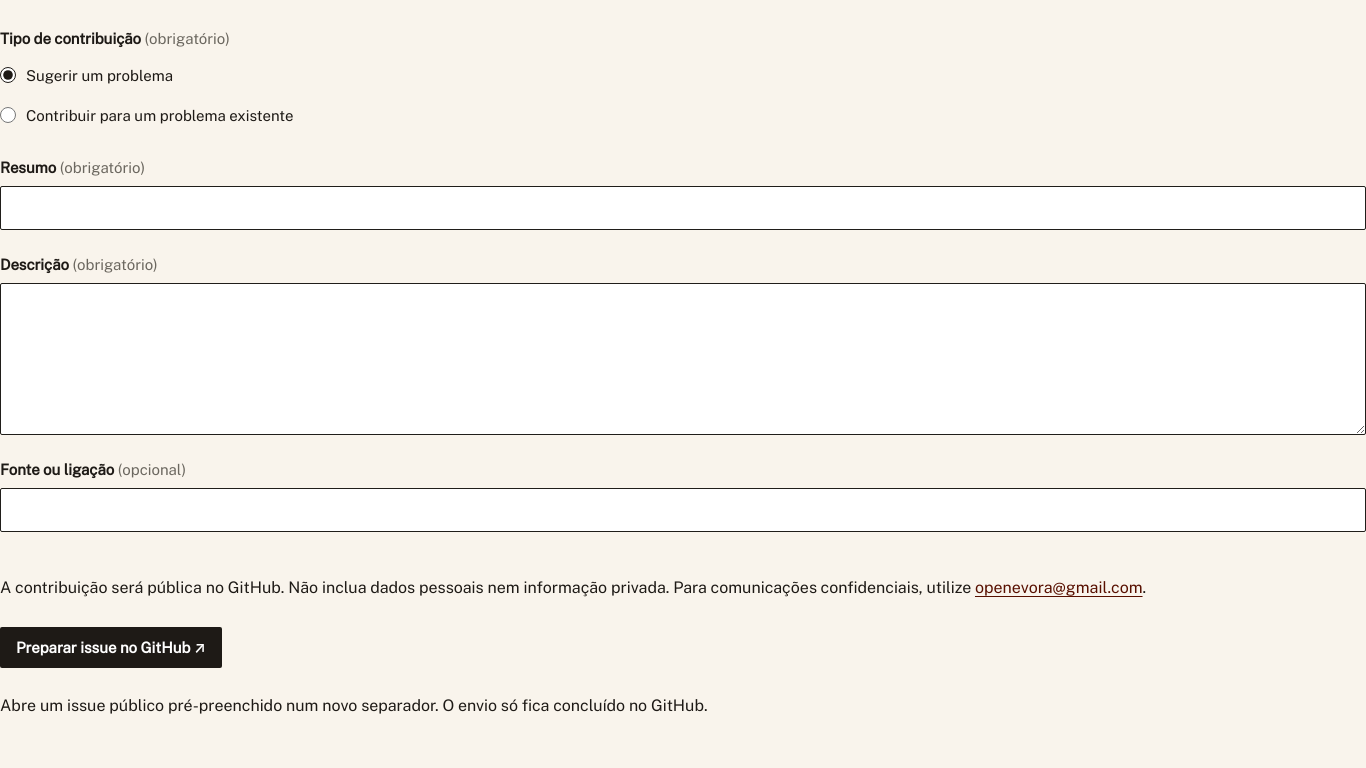
Test: ContributionForm — GitHub handoff › copies only after explicit actions and leaves prepared values visible when copying fails
Step 1. Type "Resumo" into the field labelled "Resumo (obrigatório)" → (683, 208), box [0,186,1365,230]
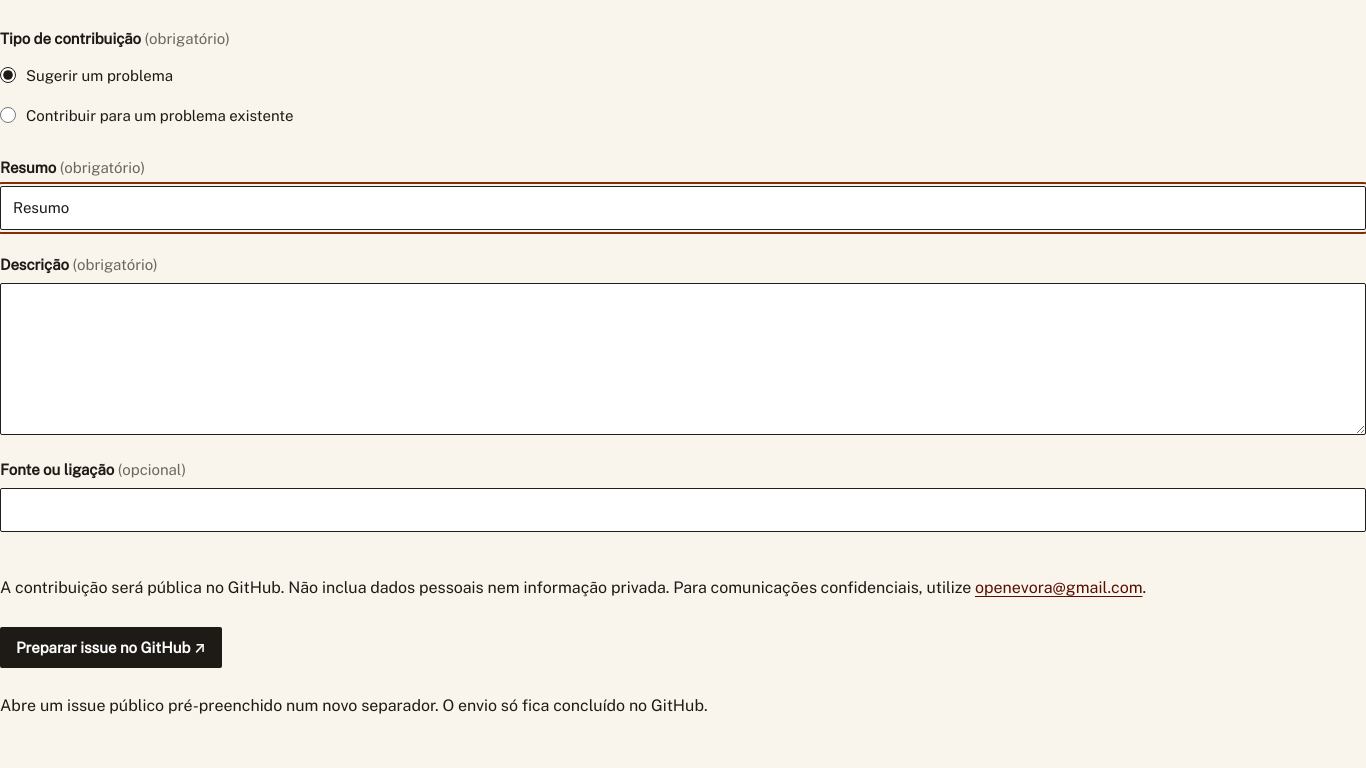
Step 2. Type "Descrição" into the text box labelled "Descrição (obrigatório)" → (683, 359), box [0,283,1365,435]
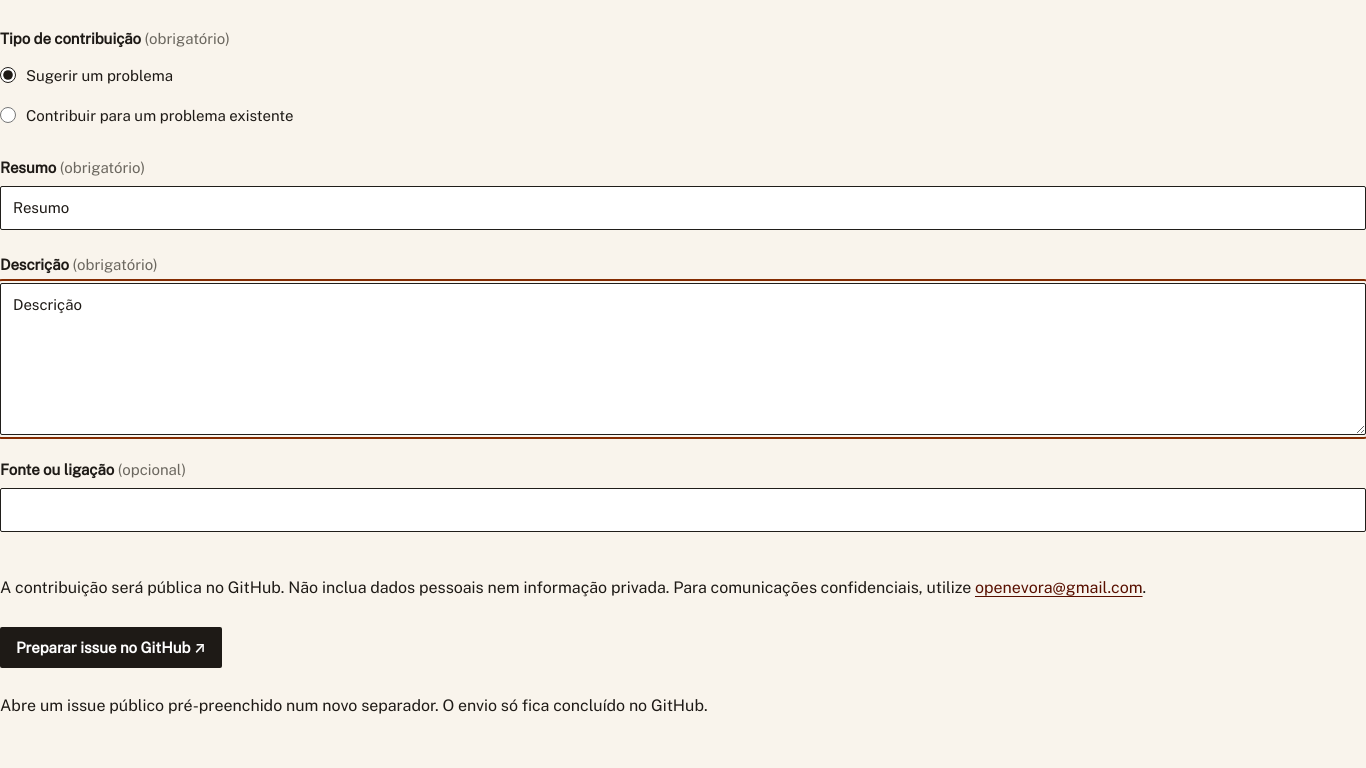
Step 3. Click the button "Preparar issue no GitHub ↗" → (111, 648), box [0,627,222,668]
(page scrolled)
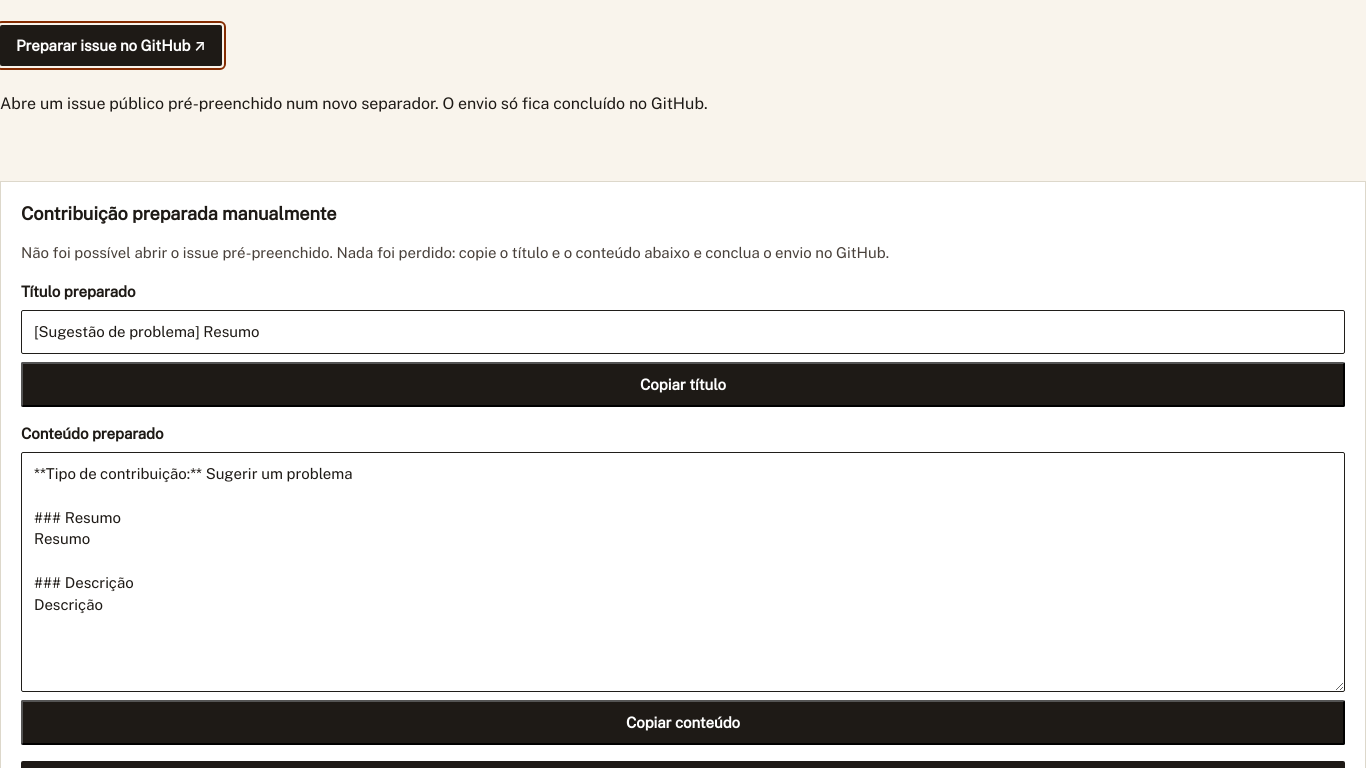
Step 4. Click the button "Copiar título" → (683, 384), box [21,362,1345,407]
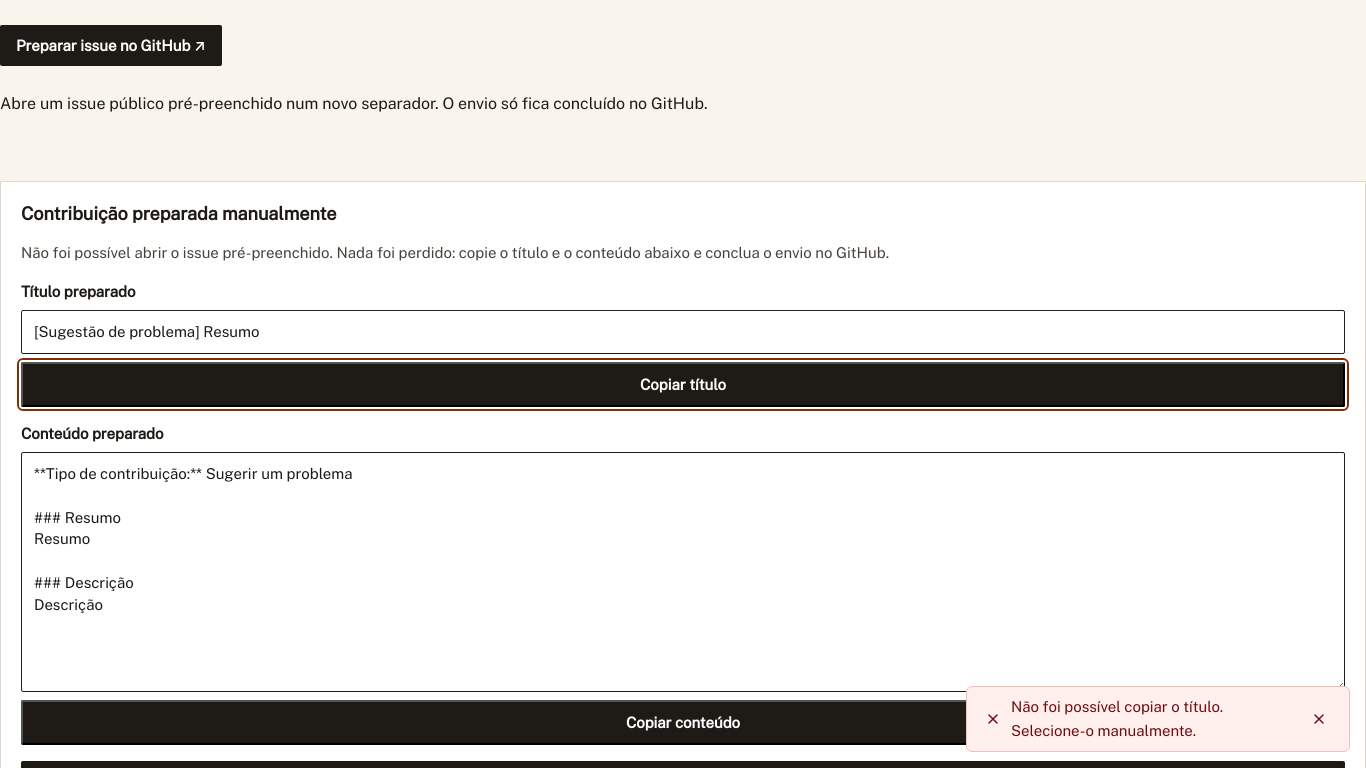
Check: the field labelled "Título preparado" holds "[Sugestão de problema] Resumo", box [21,310,1345,354]
Check: the message reads "Não foi possível copiar o título. Selecione-o manualmente.", box [1011,698,1223,739]
Step 5. Click the button "Copiar conteúdo" → (683, 722), box [21,700,1345,745]
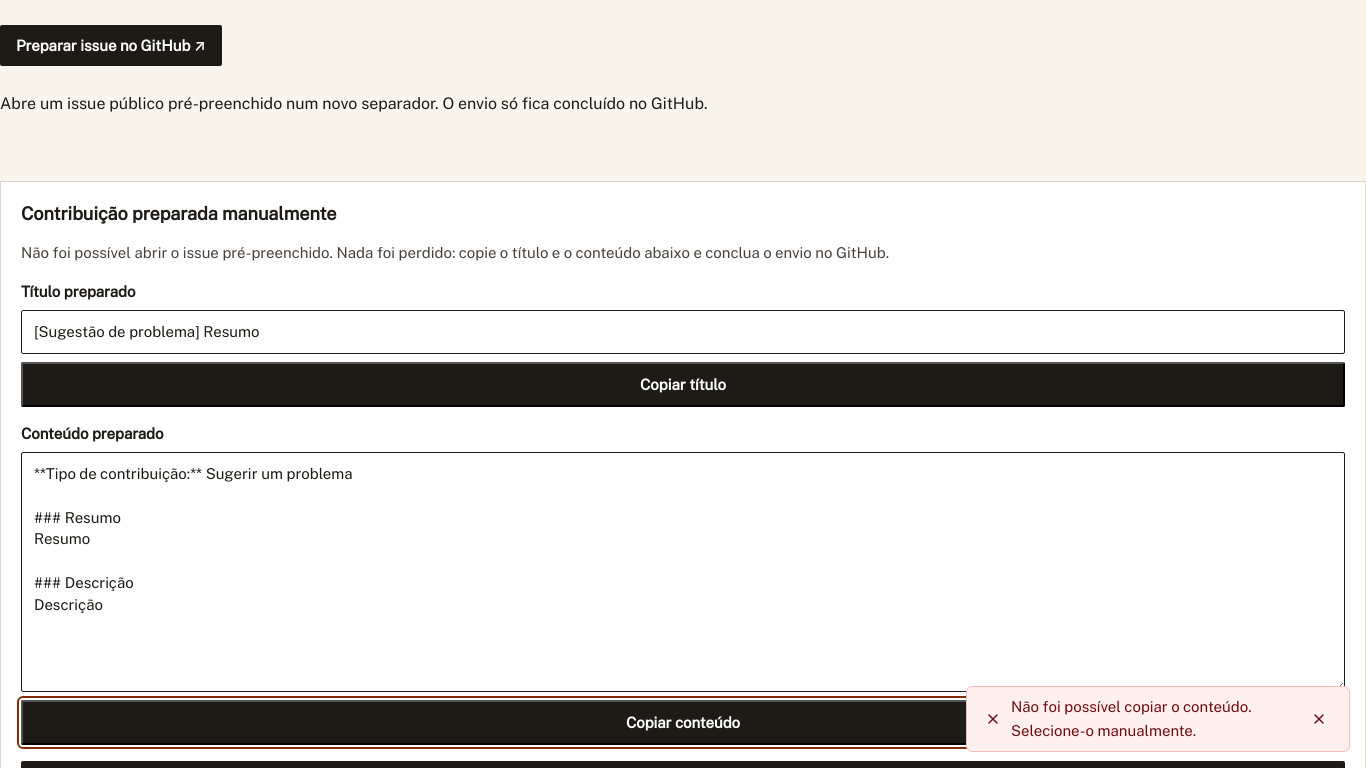
Check: the message reads "Não foi possível copiar o conteúdo. Selecione-o manualmente.", box [1011,698,1251,739]
